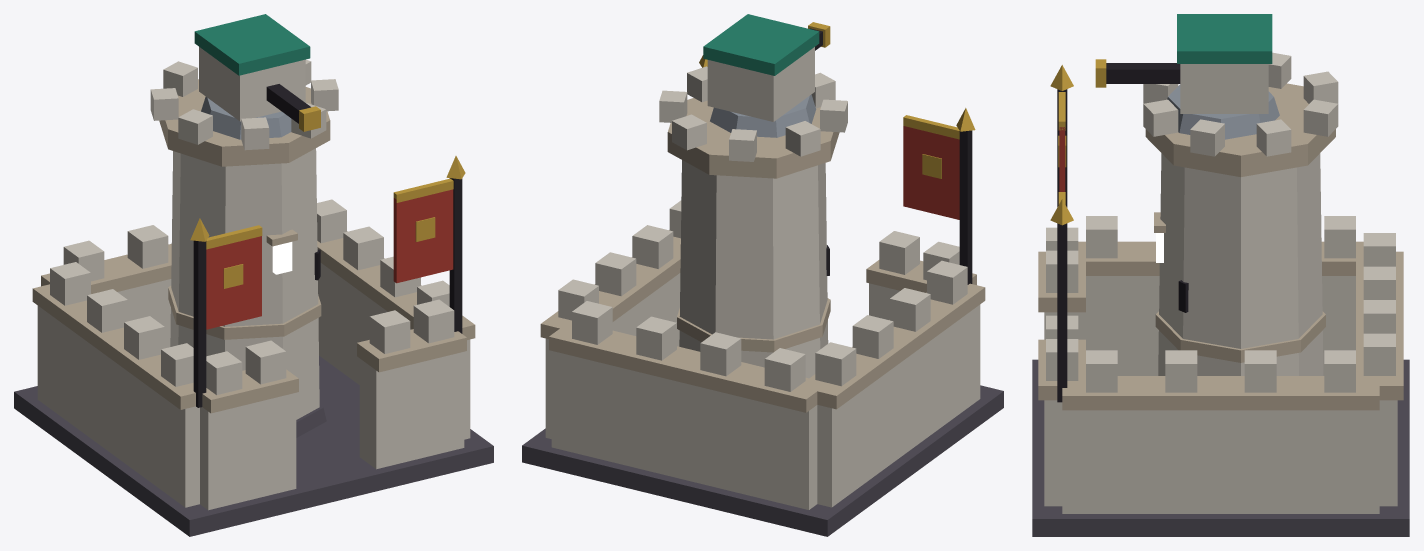
The model's file is outpost_t2.glb.
The picture shows the model from 3 angles, left to right: view 1: azimuth 30°, elevation 25°; view 2: azimuth 150°, elevation 25°; view 3: azimuth 270°, elevation 25°; orthographic projection. The views are drawn at different scales.
Parts seen in each view (by area): view 1: body, part_turret, glow; view 2: body, part_turret; view 3: body, part_turret.
Part boxes in pixels (x1,y1,x2,y2): body: (14, 60, 493, 536); part_turret: (194, 14, 320, 139); glow: (272, 242, 292, 274); body: (522, 55, 1003, 536); part_turret: (703, 14, 830, 137); body: (1032, 52, 1409, 536); part_turret: (1095, 14, 1279, 139).
Bounding box in the file's own units: 1.9 × 2.36 × 1.9.
